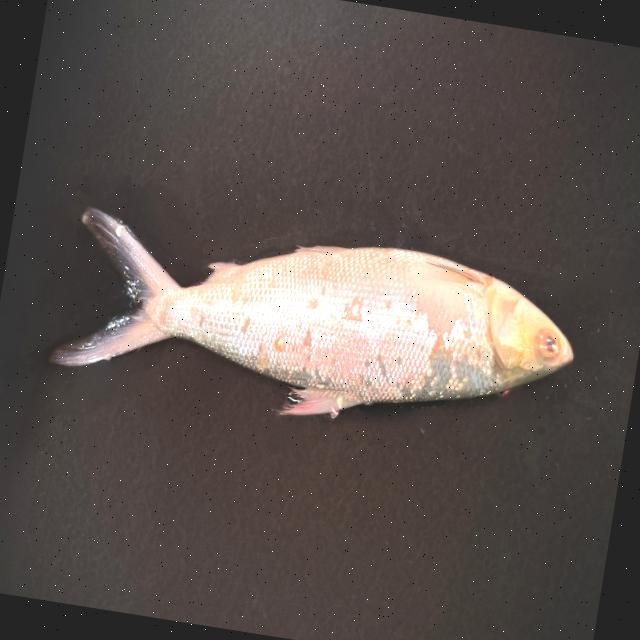900 g: (49, 196, 585, 458)
